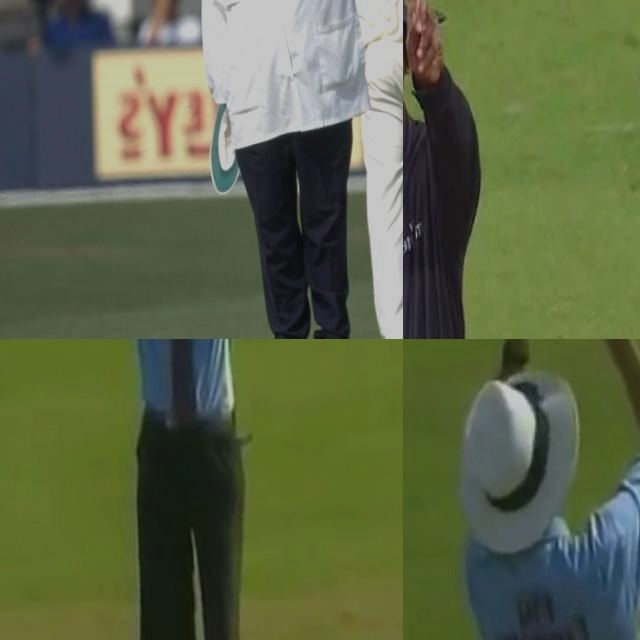Out: (175, 0, 403, 339), (403, 0, 543, 339)
Six: (68, 339, 299, 640), (432, 339, 640, 640)
